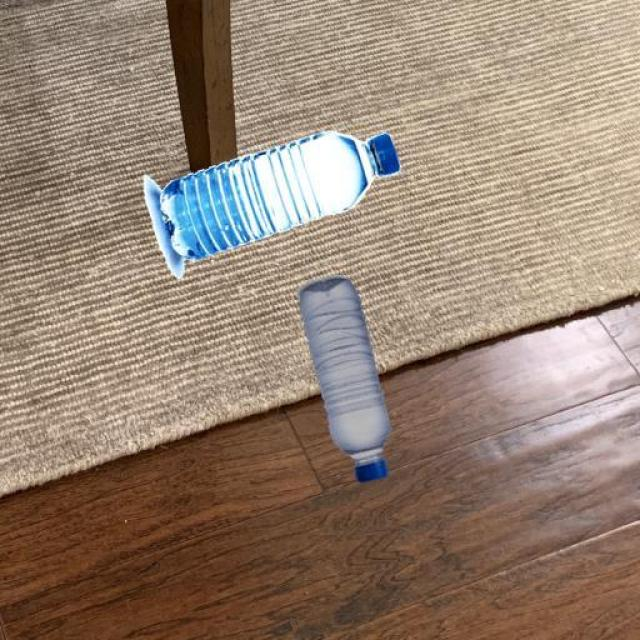bottle: (125, 126, 419, 281), (278, 276, 414, 488)
